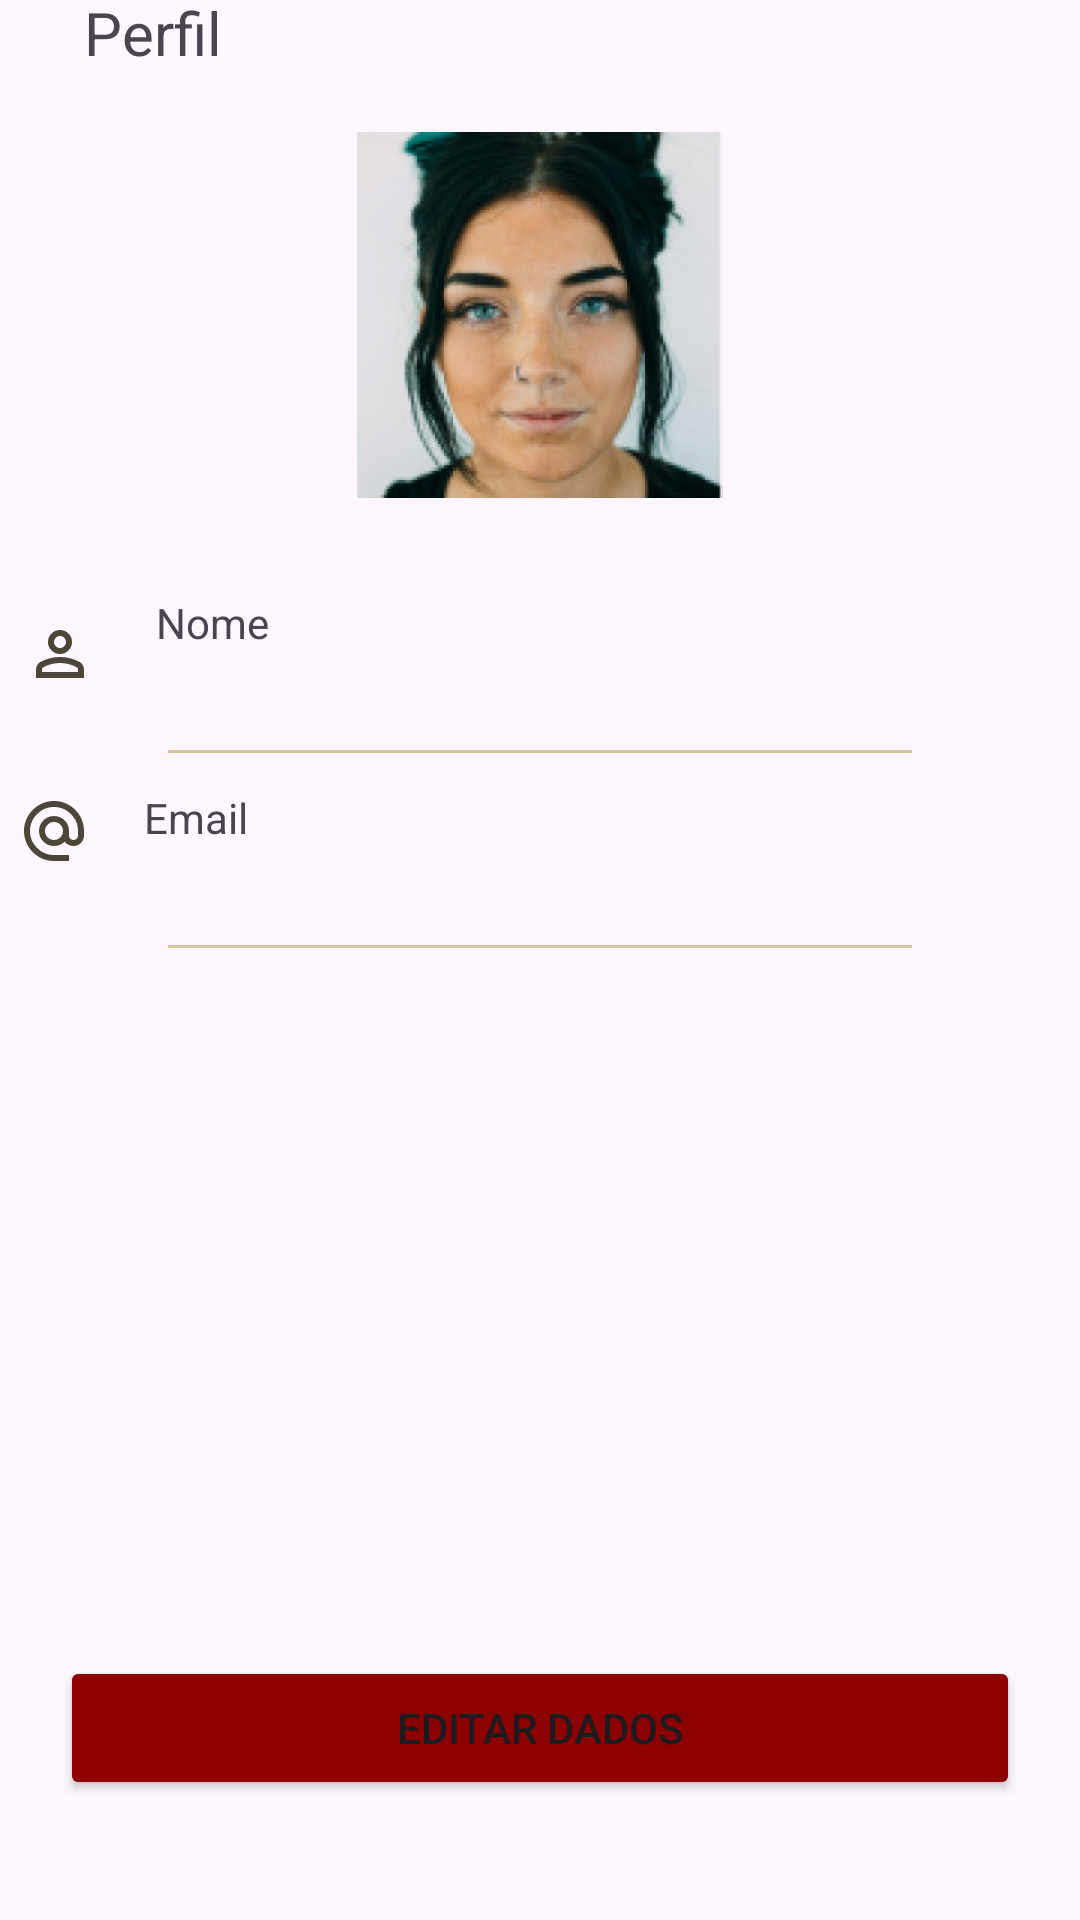

Named icons in this screenshot (1080 x 1920) and their centers, point (x, y):
person: point (60, 654)
